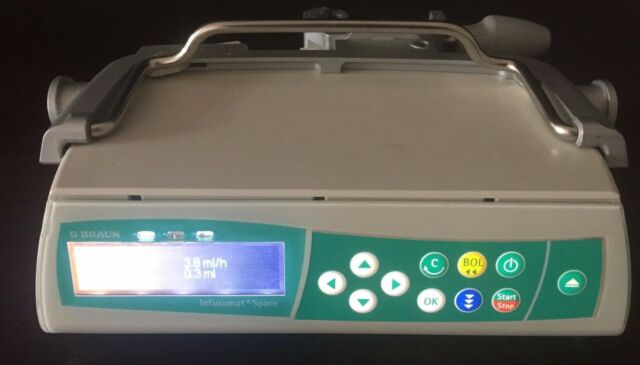BBraun Infusomat Space: (32, 177, 634, 350)
